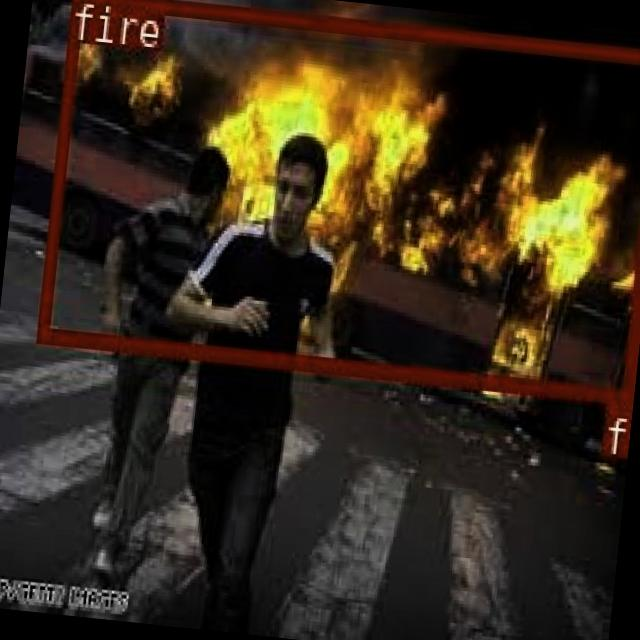fire: (36, 0, 640, 398), (598, 400, 628, 450)
